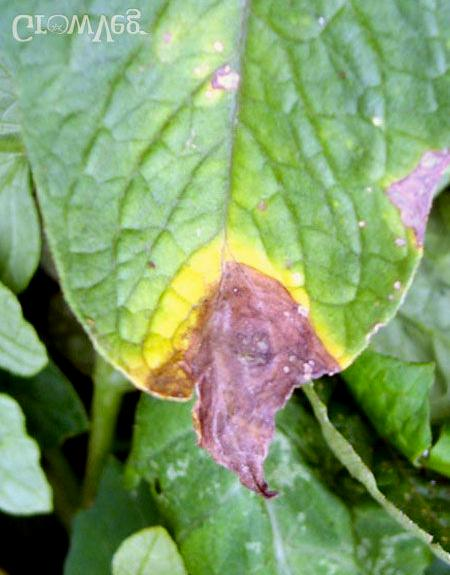Tomato Early blight leaf: (72, 30, 407, 516)
